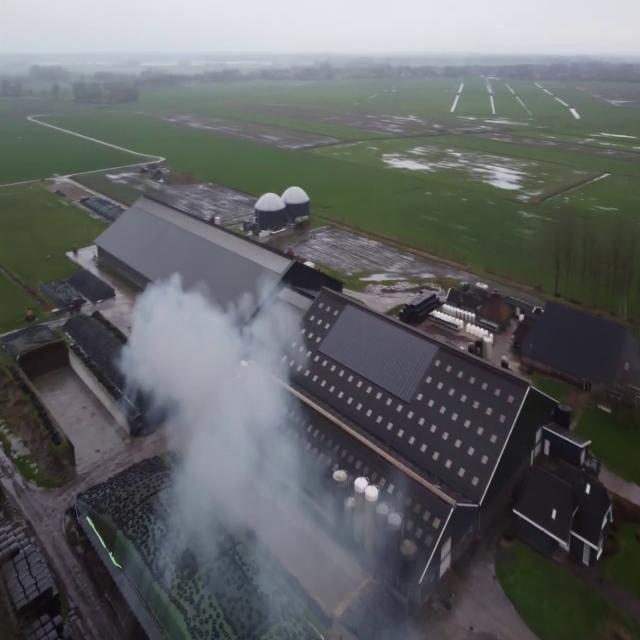Smoke: (102, 227, 404, 632)
